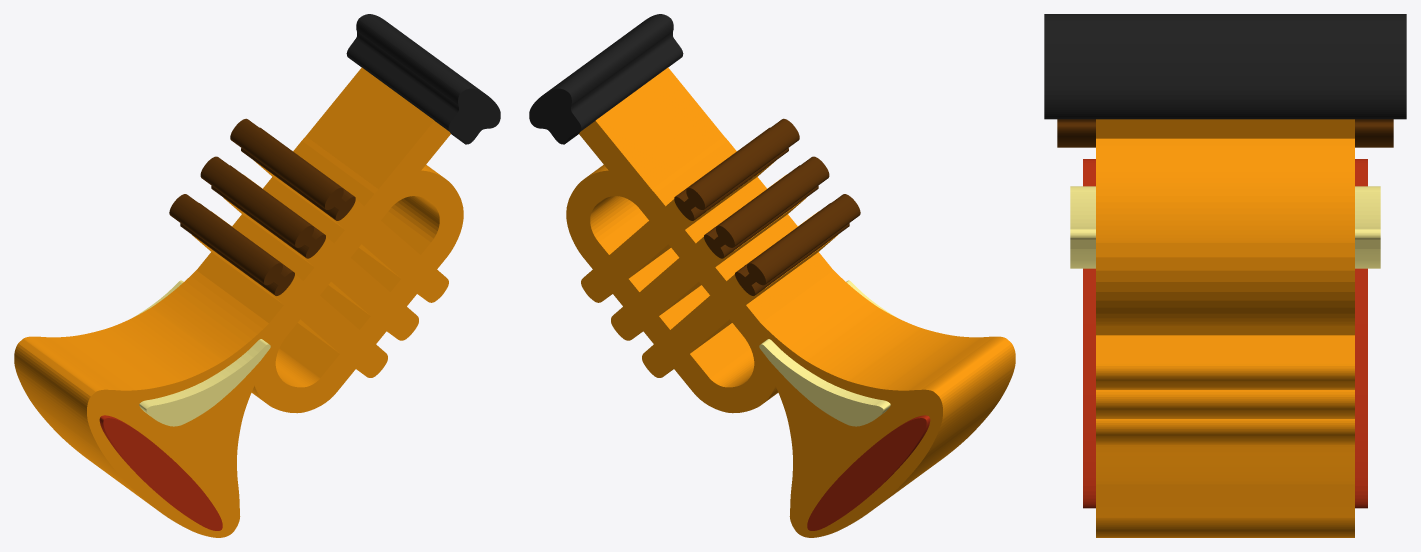
3 views of the same model, side by side, from view 1: azimuth 30°, elevation 25°; view 2: azimuth 150°, elevation 25°; view 3: azimuth 270°, elevation 25° (orthographic). The views are drawn at different scales.
Visible parts, largest first — view 1: U+1F3BA_layer00_obj02, U+1F3BA_layer00_obj00, U+1F3BA_layer00_obj04, U+1F3BA_layer04_obj00, U+1F3BA_layer01_obj00, U+1F3BA_layer02_obj00, U+1F3BA_layer00_obj01, U+1F3BA_layer03_obj00, U+1F3BA_layer03_obj01, U+1F3BA_layer03_obj05, U+1F3BA_layer00_obj05, U+1F3BA_layer00_obj03 (+3 smaller); view 2: U+1F3BA_layer00_obj02, U+1F3BA_layer00_obj00, U+1F3BA_layer00_obj04, U+1F3BA_layer04_obj00, U+1F3BA_layer01_obj00, U+1F3BA_layer00_obj01, U+1F3BA_layer02_obj00, U+1F3BA_layer00_obj03, U+1F3BA_layer03_obj00, U+1F3BA_layer03_obj01, U+1F3BA_layer03_obj05, U+1F3BA_layer00_obj05 (+3 smaller); view 3: U+1F3BA_layer00_obj00, U+1F3BA_layer04_obj00, U+1F3BA_layer00_obj02, U+1F3BA_layer00_obj03, U+1F3BA_layer00_obj01, U+1F3BA_layer01_obj00, U+1F3BA_layer00_obj05, U+1F3BA_layer00_obj04, U+1F3BA_layer02_obj00, U+1F3BA_layer03_obj02.
Part boxes in pixels (left/top/right/bottom): U+1F3BA_layer00_obj02: left=14, top=270, right=284, bottom=537; U+1F3BA_layer00_obj00: left=164, top=136, right=463, bottom=461; U+1F3BA_layer00_obj04: left=267, top=67, right=450, bottom=329; U+1F3BA_layer04_obj00: left=346, top=14, right=500, bottom=144; U+1F3BA_layer01_obj00: left=99, top=415, right=222, bottom=530; U+1F3BA_layer02_obj00: left=133, top=280, right=270, bottom=426; U+1F3BA_layer00_obj01: left=224, top=174, right=418, bottom=340; U+1F3BA_layer03_obj00: left=169, top=194, right=282, bottom=285; U+1F3BA_layer03_obj01: left=230, top=118, right=343, bottom=209; U+1F3BA_layer03_obj05: left=200, top=156, right=313, bottom=247; U+1F3BA_layer00_obj05: left=192, top=211, right=387, bottom=377; U+1F3BA_layer00_obj03: left=255, top=161, right=448, bottom=302; U+1F3BA_layer00_obj02: left=746, top=270, right=1015, bottom=537; U+1F3BA_layer00_obj00: left=566, top=136, right=865, bottom=466; U+1F3BA_layer00_obj04: left=579, top=67, right=762, bottom=341; U+1F3BA_layer04_obj00: left=529, top=14, right=683, bottom=144; U+1F3BA_layer01_obj00: left=807, top=415, right=930, bottom=530; U+1F3BA_layer00_obj01: left=611, top=174, right=805, bottom=340; U+1F3BA_layer02_obj00: left=759, top=280, right=896, bottom=426; U+1F3BA_layer00_obj03: left=581, top=161, right=774, bottom=302; U+1F3BA_layer03_obj00: left=747, top=194, right=860, bottom=285; U+1F3BA_layer03_obj01: left=686, top=118, right=799, bottom=209; U+1F3BA_layer03_obj05: left=716, top=156, right=829, bottom=247; U+1F3BA_layer00_obj05: left=642, top=211, right=837, bottom=377; U+1F3BA_layer00_obj00: left=1096, top=138, right=1354, bottom=335; U+1F3BA_layer04_obj00: left=1044, top=14, right=1406, bottom=119; U+1F3BA_layer00_obj02: left=1096, top=445, right=1354, bottom=537; U+1F3BA_layer00_obj03: left=1096, top=335, right=1354, bottom=389; U+1F3BA_layer00_obj01: left=1096, top=390, right=1354, bottom=418; U+1F3BA_layer01_obj00: left=1083, top=159, right=1367, bottom=508; U+1F3BA_layer00_obj05: left=1096, top=419, right=1354, bottom=444; U+1F3BA_layer00_obj04: left=1096, top=119, right=1354, bottom=138; U+1F3BA_layer02_obj00: left=1070, top=186, right=1380, bottom=268; U+1F3BA_layer03_obj02: left=1057, top=121, right=1393, bottom=147.
Size of the model in its own units: 0.3171 by 0.3058 by 0.14.
